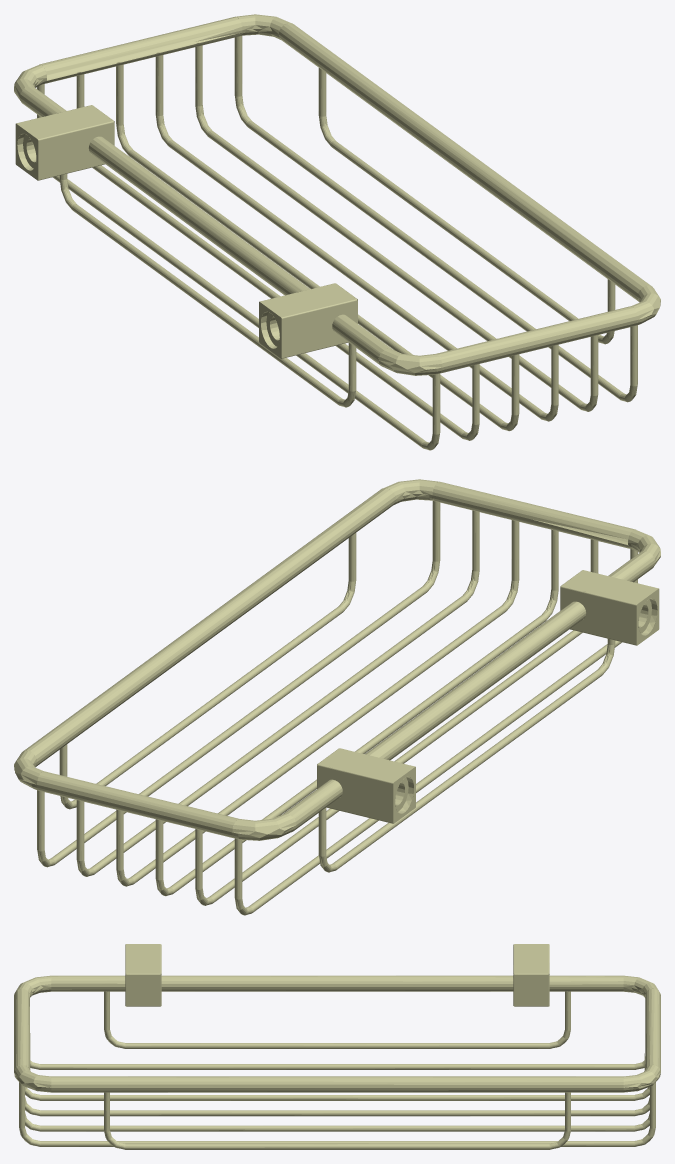
The picture shows the model from 3 angles, top to bottom: view 1: azimuth 30°, elevation 25°; view 2: azimuth 150°, elevation 25°; view 3: azimuth 270°, elevation 25°; orthographic projection. The views are drawn at different scales.
Parts seen in each view (by area): view 1: mesh77_mesh77-geometry, mesh76_mesh76-geometry, mesh75_mesh75-geometry, mesh119_mesh119-geometry, mesh114_mesh114-geometry, mesh124_mesh124-geometry, mesh99_mesh99-geometry, mesh72_mesh72-geometry, mesh90_mesh90-geometry, mesh109_mesh109-geometry, mesh104_mesh104-geometry, mesh167_mesh167-geometry (+15 smaller); view 2: mesh77_mesh77-geometry, mesh76_mesh76-geometry, mesh72_mesh72-geometry, mesh119_mesh119-geometry, mesh114_mesh114-geometry, mesh124_mesh124-geometry, mesh75_mesh75-geometry, mesh99_mesh99-geometry, mesh169_mesh169-geometry, mesh109_mesh109-geometry, mesh104_mesh104-geometry, mesh92_mesh92-geometry (+15 smaller); view 3: mesh77_mesh77-geometry, mesh76_mesh76-geometry, mesh60_mesh60-geometry, mesh69_mesh69-geometry, mesh63_mesh63-geometry, mesh57_mesh57-geometry, mesh80_mesh80-geometry, mesh54_mesh54-geometry, mesh82_mesh82-geometry, mesh51_mesh51-geometry, mesh48_mesh48-geometry, mesh75_mesh75-geometry (+17 smaller).
Boxes of the visible parts, left/top/right/bottom form: mesh77_mesh77-geometry: left=279, top=23, right=651, bottom=296; mesh76_mesh76-geometry: left=89, top=136, right=392, bottom=359; mesh75_mesh75-geometry: left=436, top=306, right=637, bottom=367; mesh119_mesh119-geometry: left=207, top=130, right=582, bottom=408; mesh114_mesh114-geometry: left=167, top=140, right=542, bottom=418; mesh124_mesh124-geometry: left=246, top=121, right=622, bottom=399; mesh99_mesh99-geometry: left=53, top=175, right=424, bottom=447; mesh72_mesh72-geometry: left=40, top=17, right=242, bottom=74; mesh90_mesh90-geometry: left=281, top=300, right=357, bottom=357; mesh109_mesh109-geometry: left=128, top=150, right=503, bottom=427; mesh104_mesh104-geometry: left=92, top=165, right=464, bottom=437; mesh167_mesh167-geometry: left=38, top=122, right=113, bottom=179; mesh77_mesh77-geometry: left=23, top=488, right=395, bottom=761; mesh76_mesh76-geometry: left=365, top=551, right=654, bottom=759; mesh72_mesh72-geometry: left=37, top=771, right=238, bottom=832; mesh119_mesh119-geometry: left=92, top=595, right=467, bottom=874; mesh114_mesh114-geometry: left=132, top=605, right=507, bottom=883; mesh124_mesh124-geometry: left=52, top=586, right=428, bottom=864; mesh75_mesh75-geometry: left=432, top=481, right=634, bottom=539; mesh99_mesh99-geometry: left=250, top=640, right=621, bottom=912; mesh169_mesh169-geometry: left=317, top=765, right=393, bottom=822; mesh109_mesh109-geometry: left=171, top=615, right=546, bottom=892; mesh104_mesh104-geometry: left=210, top=630, right=582, bottom=902; mesh92_mesh92-geometry: left=561, top=587, right=636, bottom=644; mesh77_mesh77-geometry: left=51, top=1076, right=623, bottom=1087; mesh76_mesh76-geometry: left=51, top=975, right=513, bottom=986; mesh60_mesh60-geometry: left=40, top=1110, right=634, bottom=1116; mesh69_mesh69-geometry: left=40, top=1064, right=634, bottom=1069; mesh63_mesh63-geometry: left=40, top=1095, right=634, bottom=1100; mesh57_mesh57-geometry: left=40, top=1126, right=634, bottom=1131; mesh80_mesh80-geometry: left=51, top=1088, right=623, bottom=1092; mesh54_mesh54-geometry: left=40, top=1141, right=634, bottom=1146; mesh82_mesh82-geometry: left=51, top=987, right=513, bottom=991; mesh51_mesh51-geometry: left=125, top=1043, right=549, bottom=1047; mesh48_mesh48-geometry: left=125, top=1143, right=549, bottom=1147; mesh75_mesh75-geometry: left=14, top=989, right=30, bottom=1070.
Size of the model in its own units: 0.418 by 0.1389 by 0.8978.
